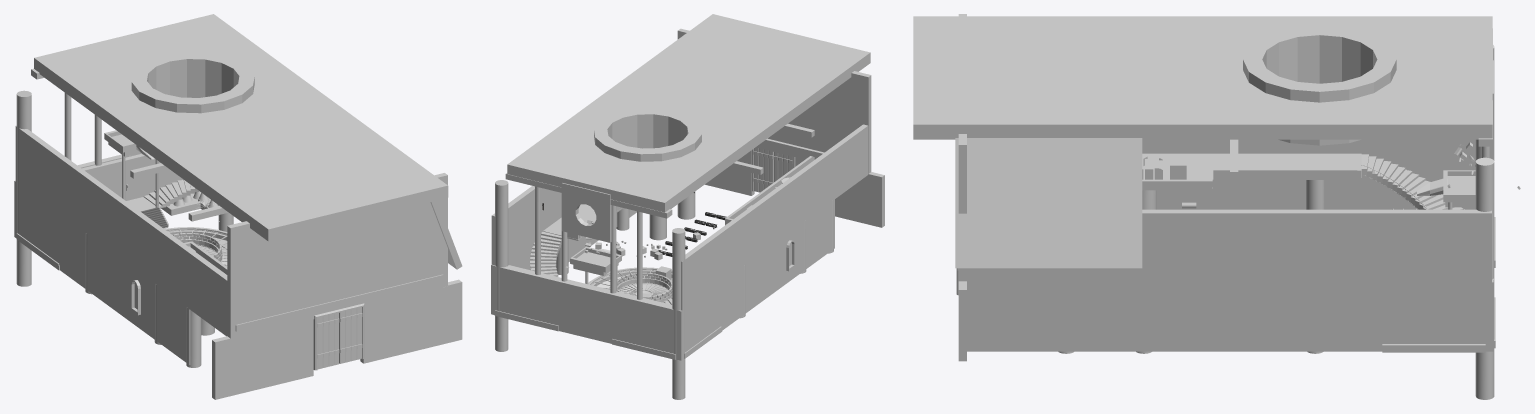
The model's file is Plinth.fbx.
3 renders of one model, left to right at view 1: azimuth 30°, elevation 25°; view 2: azimuth 150°, elevation 25°; view 3: azimuth 270°, elevation 25°, orthographic. The views are drawn at different scales.
Visible parts, largest first — view 1: SM_SkylightRoof, Cube34, Cube33, Cube6, Cube62, Light_Well, Cube13, Cube44, fRAME, Cube10, Cube64, Cylinder3 (+7 smaller); view 2: SM_SkylightRoof, Cube34, Cube10, Cube6, Light_Well, Cube32, Cube33, Cylinder_Brush_StaticMesh, Cube62, Cube13, Cylinder7, Cylinder3 (+19 smaller); view 3: SM_SkylightRoof, Cube12, Cube32, Cube41, Cube73, Light_Well, Cube6, Cube7, Cube34, Landing+Y, Cylinder7, Curved_Stair_Brush_Left_StaticMesh (+9 smaller).
Part boxes in pixels (<box>): SM_SkylightRoof: <box>34,14,448,241</box>; Cube34: <box>15,125,227,336</box>; Cube33: <box>227,232,447,339</box>; Cube6: <box>14,180,190,364</box>; Cube62: <box>227,173,447,284</box>; Light_Well: <box>131,52,254,113</box>; Cube13: <box>212,318,313,399</box>; Cube44: <box>360,279,462,363</box>; fRAME: <box>313,303,364,370</box>; Cube10: <box>77,153,195,200</box>; Cube64: <box>235,274,443,331</box>; Cylinder3: <box>16,90,31,286</box>; SM_SkylightRoof: <box>507,14,870,212</box>; Cube34: <box>681,124,868,310</box>; Cube10: <box>494,265,677,359</box>; Cube6: <box>678,199,834,360</box>; Light_Well: <box>594,108,701,161</box>; Cube32: <box>491,186,561,265</box>; Cube33: <box>756,110,871,173</box>; Cylinder_Brush_StaticMesh: <box>561,183,611,242</box>; Cube62: <box>677,28,871,125</box>; Cube13: <box>795,156,884,227</box>; Cylinder7: <box>495,180,508,351</box>; Cylinder3: <box>672,228,685,399</box>; SM_SkylightRoof: <box>913,16,1492,139</box>; Cube12: <box>967,282,1390,351</box>; Cube32: <box>967,209,1491,282</box>; Cube41: <box>955,138,1071,268</box>; Cube73: <box>1026,138,1142,268</box>; Light_Well: <box>1243,27,1396,145</box>; Cube6: <box>1156,155,1475,209</box>; Cube7: <box>1061,280,1493,351</box>; Cube34: <box>1142,139,1475,155</box>; Landing+Y: <box>1213,153,1361,179</box>; Cylinder7: <box>1475,157,1494,399</box>; Curved_Stair_Brush_Left_StaticMesh: <box>1361,154,1463,209</box>.
Size of what is drawn, in the model's own units: 4260 by 3776 by 7342.
Materials: 7 (2 with a texture image).
